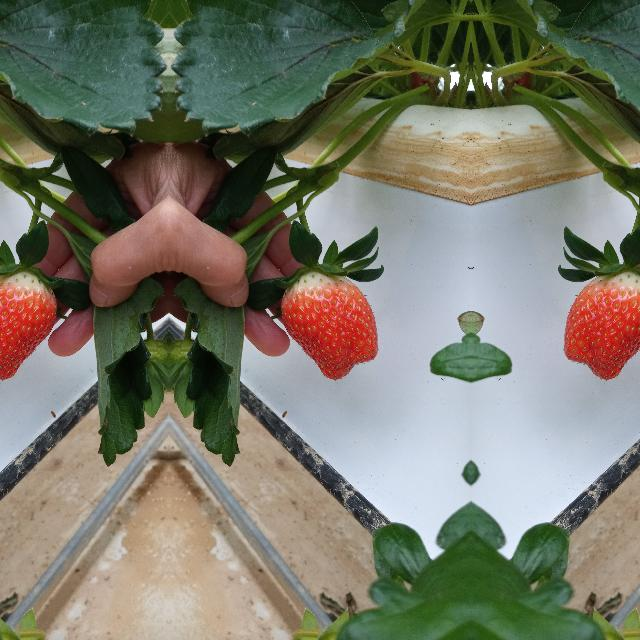Health_100: (278, 269, 378, 381), (563, 269, 640, 381), (0, 269, 58, 381)
